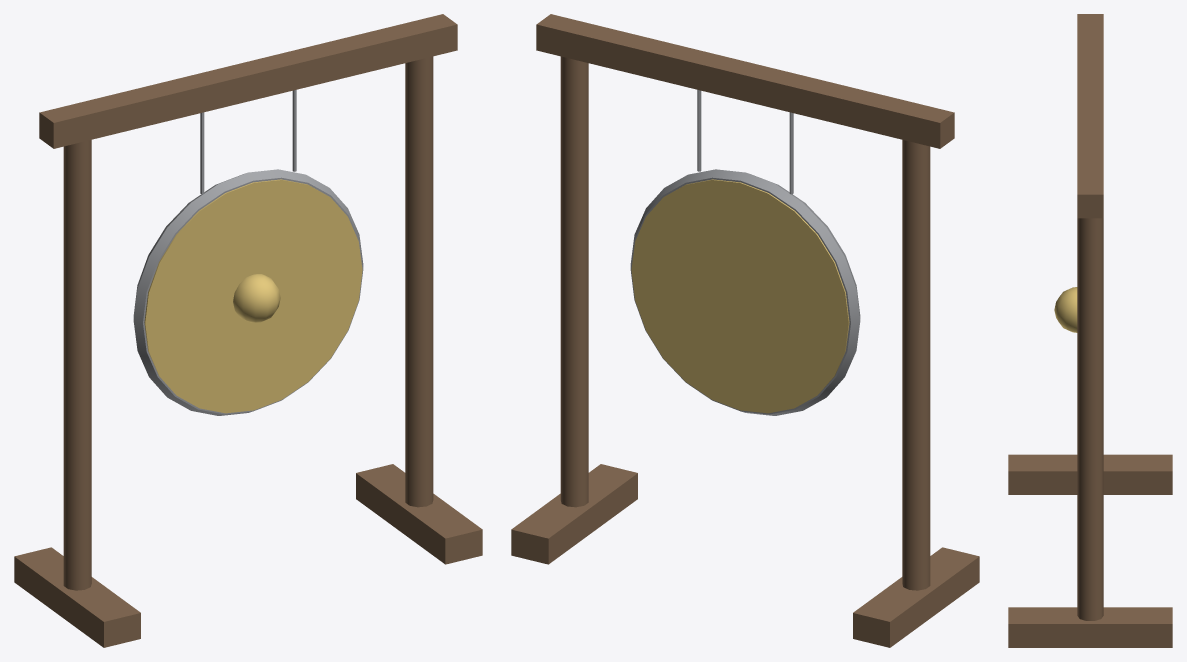
The model's file is Gong_Stand.fbx.
The picture shows the model from 3 angles, left to right: view 1: azimuth 30°, elevation 25°; view 2: azimuth 150°, elevation 25°; view 3: azimuth 270°, elevation 25°; orthographic projection. The views are drawn at different scales.
Visible parts, largest first — view 1: Gong_Stand; view 2: Gong_Stand; view 3: Gong_Stand.
Boxes of the visible parts, <box> form: Gong_Stand: <box>14,14,482,647</box>; Gong_Stand: <box>511,14,979,647</box>; Gong_Stand: <box>1008,14,1172,647</box>.
Size of the model in its own units: 1.3 by 1.54 by 0.5.
